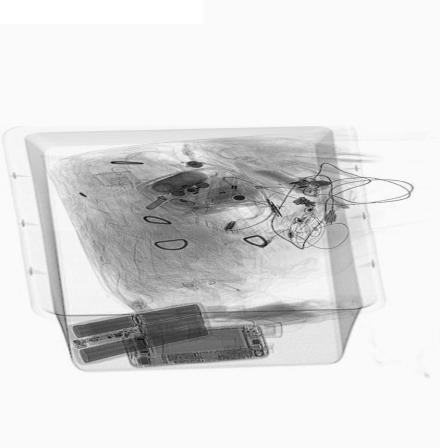Powerbank: (59, 301, 217, 367)
